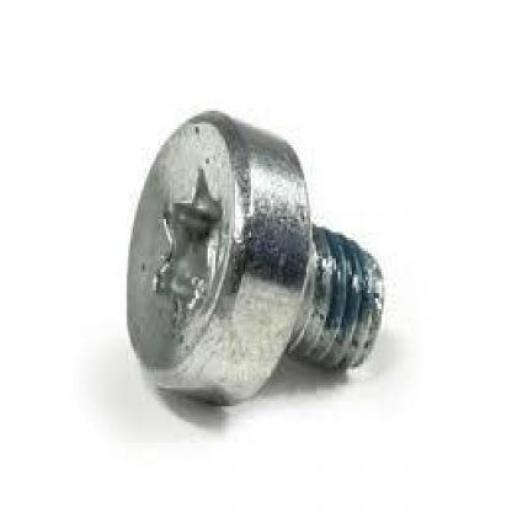bolt: (126, 111, 386, 406)
